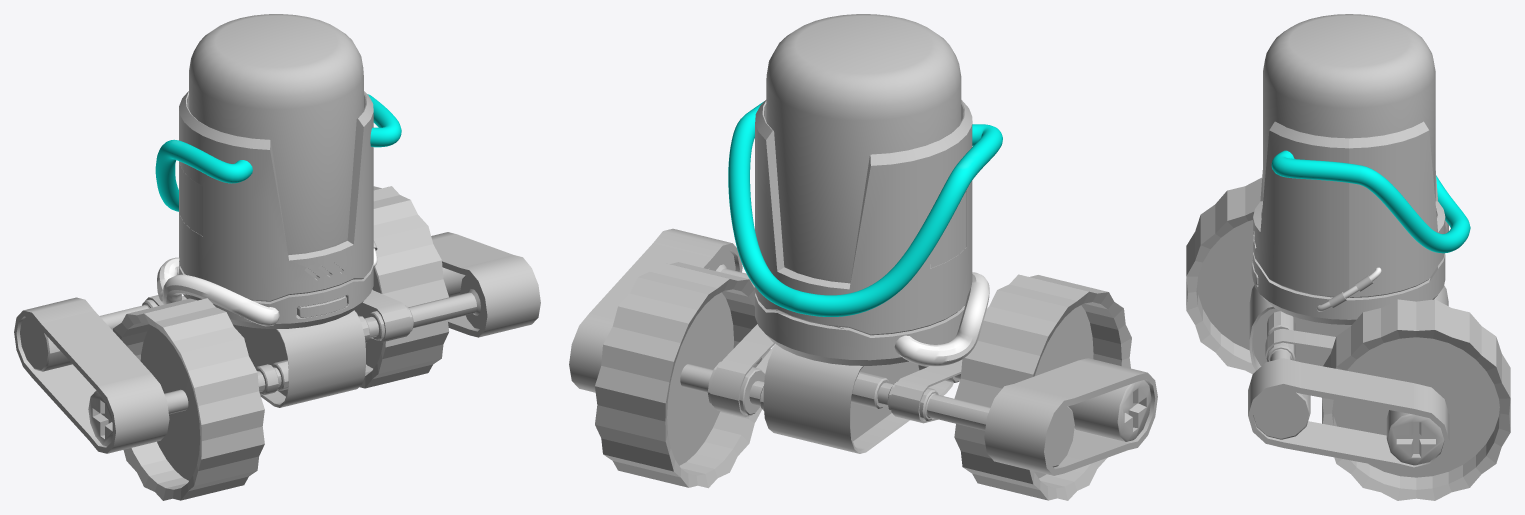
File: robot x painter.fbx
The picture shows the model from 3 angles, left to right: view 1: azimuth 30°, elevation 25°; view 2: azimuth 150°, elevation 25°; view 3: azimuth 270°, elevation 25°; orthographic projection. The views are drawn at different scales.
Parts seen in each view (by area): view 1: capsule, base metallo, tire 1, belt 1, tire 2, base belts, base cavi, belt 2, base alberi, vite 1, base luci; view 2: capsule, base metallo, tire 2, tire 1, base belts, base cavi, belt 1, belt 2, base alberi, vite 1, vite 2; view 3: base metallo, tire 2, capsule, belt 2, tire 1, base cavi, base belts, base alberi, vite 2.
Boxes of the visible parts, x1,y1,x2,y2 form: capsule: [189, 14, 363, 255]; base metallo: [179, 91, 377, 328]; tire 1: [113, 298, 264, 500]; belt 1: [14, 297, 169, 453]; tire 2: [354, 186, 449, 388]; base belts: [145, 290, 411, 407]; base cavi: [155, 94, 401, 326]; belt 2: [431, 232, 540, 337]; base alberi: [20, 275, 484, 394]; vite 1: [88, 389, 188, 446]; base luci: [297, 296, 346, 317]; capsule: [766, 14, 961, 283]; base metallo: [755, 100, 972, 365]; tire 2: [595, 261, 770, 488]; tire 1: [954, 274, 1131, 500]; base belts: [710, 324, 962, 453]; base cavi: [728, 101, 1002, 366]; belt 1: [984, 358, 1157, 475]; belt 2: [569, 228, 742, 392]; base alberi: [707, 250, 1074, 467]; vite 1: [1068, 380, 1151, 441]; vite 2: [680, 364, 713, 392]; base metallo: [1253, 121, 1445, 324]; tire 2: [1322, 299, 1510, 500]; capsule: [1263, 14, 1435, 201]; belt 2: [1248, 358, 1449, 472]; tire 1: [1186, 177, 1262, 373]; base cavi: [1271, 150, 1470, 311]; base belts: [1249, 285, 1448, 370]; base alberi: [1253, 311, 1310, 439]; vite 2: [1386, 410, 1444, 465].
Size of the model in its own units: 503 by 337 by 439.
